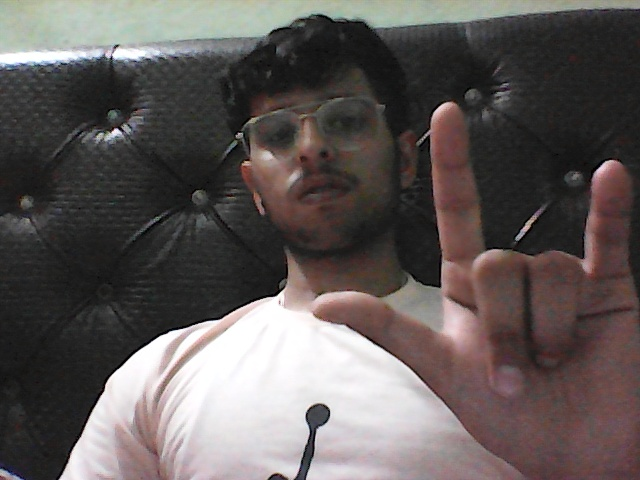iloveyou: (316, 87, 640, 480)
